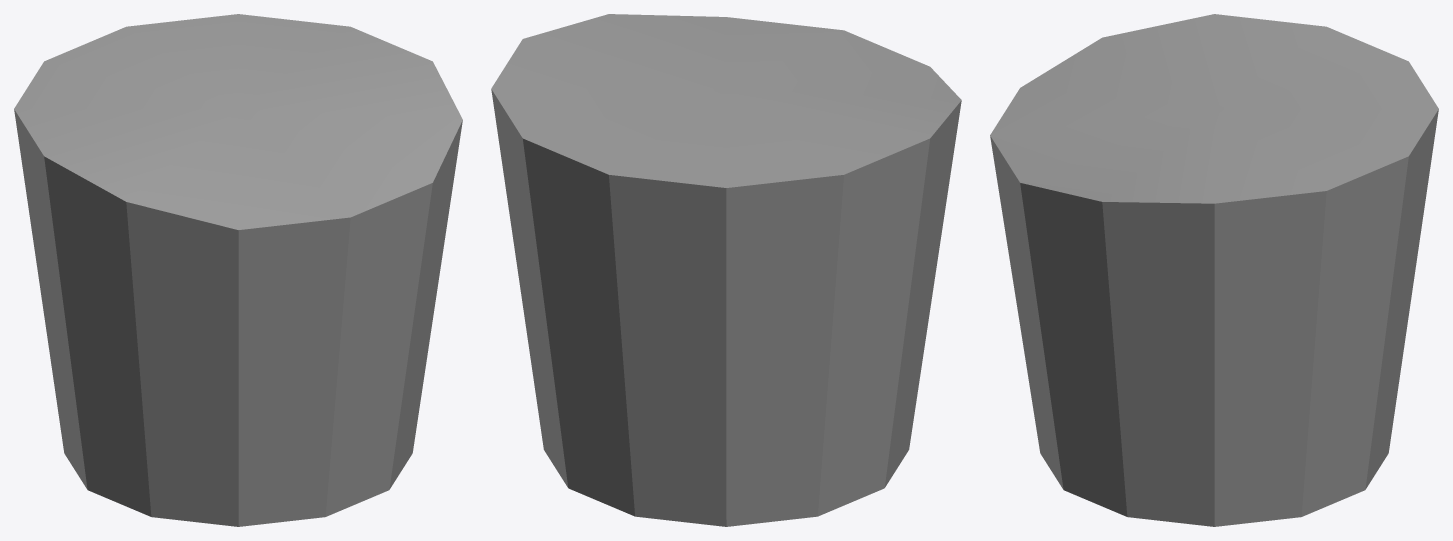
The model's file is Chest.fbx.
3 renders of one model, left to right at view 1: azimuth 30°, elevation 25°; view 2: azimuth 150°, elevation 25°; view 3: azimuth 270°, elevation 25°, orthographic. The views are drawn at different scales.
Parts seen in each view (by area): view 1: Chest; view 2: Chest; view 3: Chest.
Part boxes in pixels (x1,y1,x2,y2): Chest: [14, 14, 462, 526]; Chest: [491, 14, 961, 526]; Chest: [990, 14, 1438, 526].
Bounding box in the file's own units: 39.77 × 33.68 × 39.77.
Materials: 1 (1 with a texture image).
